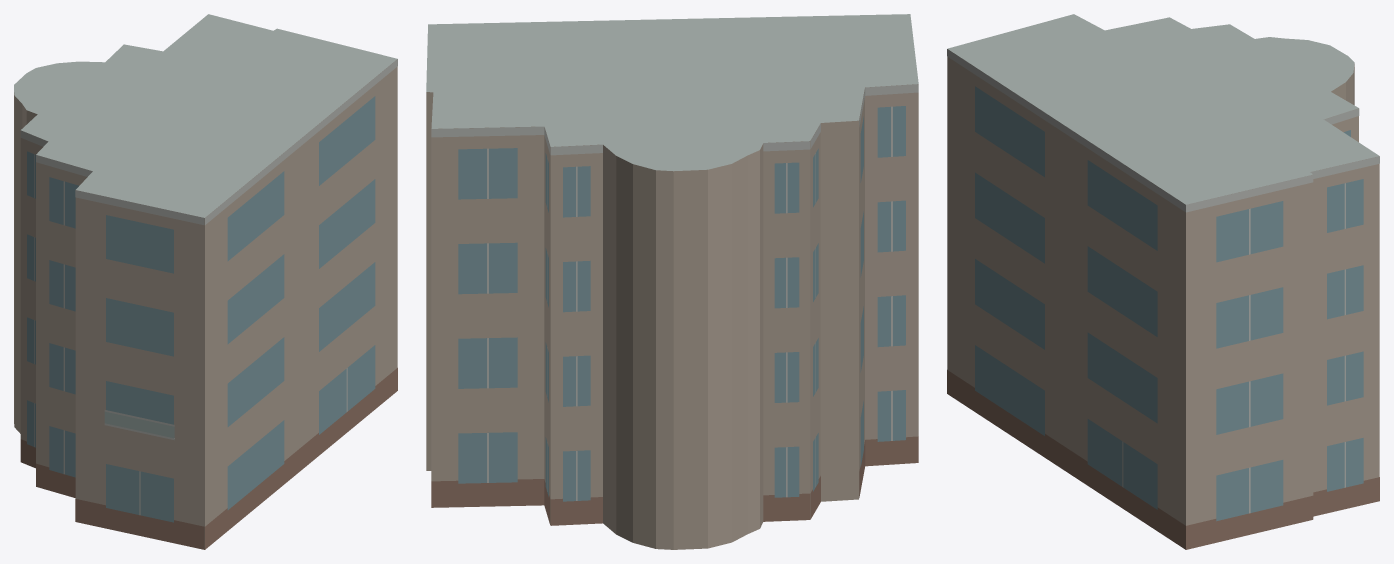
The model's file is survey-upis-32515287.glb.
3 views of the same model, side by side, from view 1: azimuth 30°, elevation 25°; view 2: azimuth 150°, elevation 25°; view 3: azimuth 270°, elevation 25° (orthographic). The views are drawn at different scales.
Visible parts, largest first — view 1: survey-upis-32515287.tmp; view 2: survey-upis-32515287.tmp; view 3: survey-upis-32515287.tmp.
Boxes of the visible parts, x1,y1,x2,y2 form: survey-upis-32515287.tmp: (14, 14, 397, 549); survey-upis-32515287.tmp: (426, 14, 918, 549); survey-upis-32515287.tmp: (947, 14, 1379, 549).
Size of the model in its own units: 12.93 by 10.9 by 12.4.
